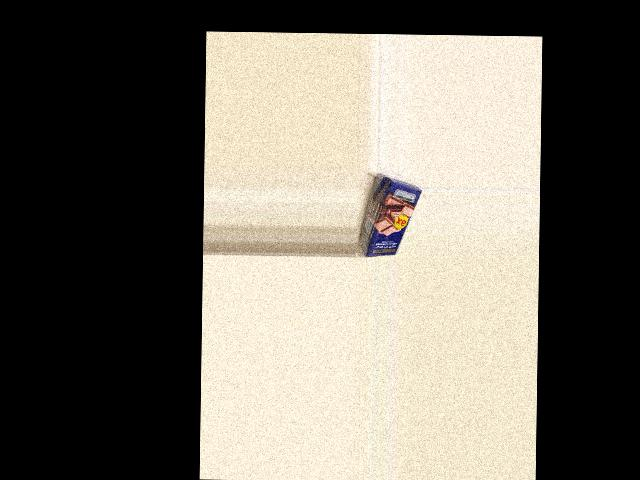chocolate: (360, 178, 422, 258)
